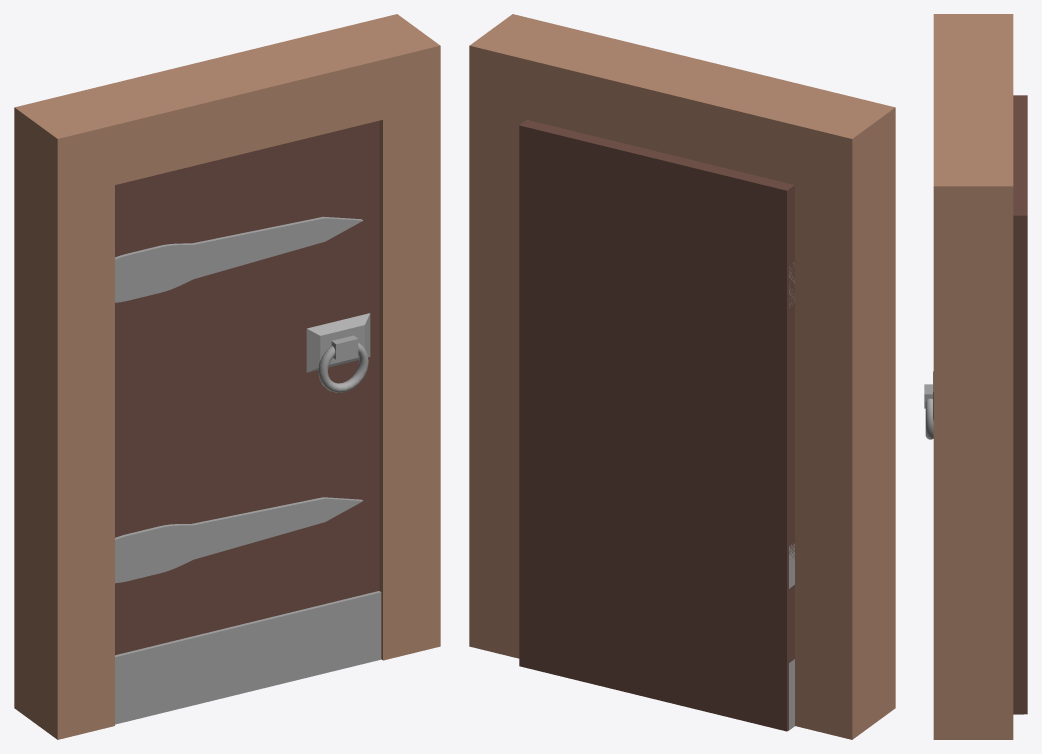
Rendered from Door.fbx.
3 views of the same model, side by side, from view 1: azimuth 30°, elevation 25°; view 2: azimuth 150°, elevation 25°; view 3: azimuth 270°, elevation 25° (orthographic). The views are drawn at different scales.
Visible parts, largest first — view 1: polySurface16; view 2: polySurface16; view 3: polySurface16.
Part boxes in pixels (<box>): polySurface16: <box>14,14,440,739</box>; polySurface16: <box>469,14,895,739</box>; polySurface16: <box>924,14,1027,739</box>.
Bounding box in the file's own units: 200 × 300 × 50.67.
